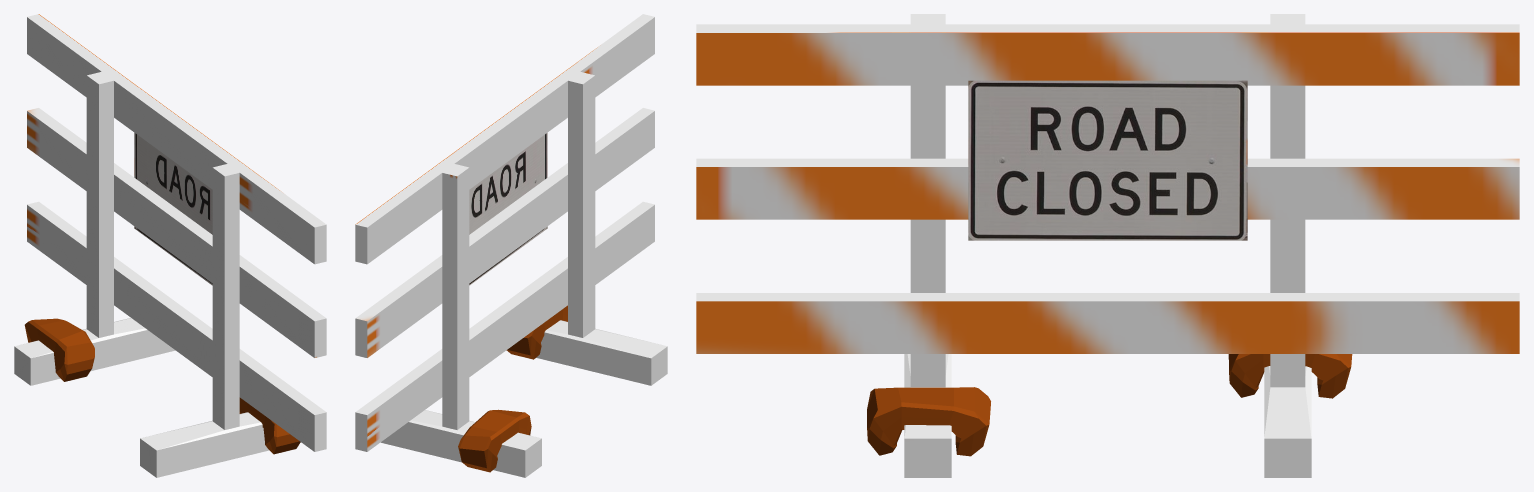
Rendered from roadblock.fbx.
The picture shows the model from 3 angles, left to right: view 1: azimuth 30°, elevation 25°; view 2: azimuth 150°, elevation 25°; view 3: azimuth 270°, elevation 25°; orthographic projection. The views are drawn at different scales.
Parts seen in each view (by area): view 1: blockage-1; view 2: blockage-1; view 3: blockage-1.
Part boxes in pixels (box(x1,y1,x2,y2)): blockage-1: box(14, 14, 326, 477); blockage-1: box(355, 14, 667, 477); blockage-1: box(696, 14, 1519, 477).
Bounding box in the file's own units: 1.97 × 3.42 × 6.31.
Materials: 3 (2 with a texture image).
